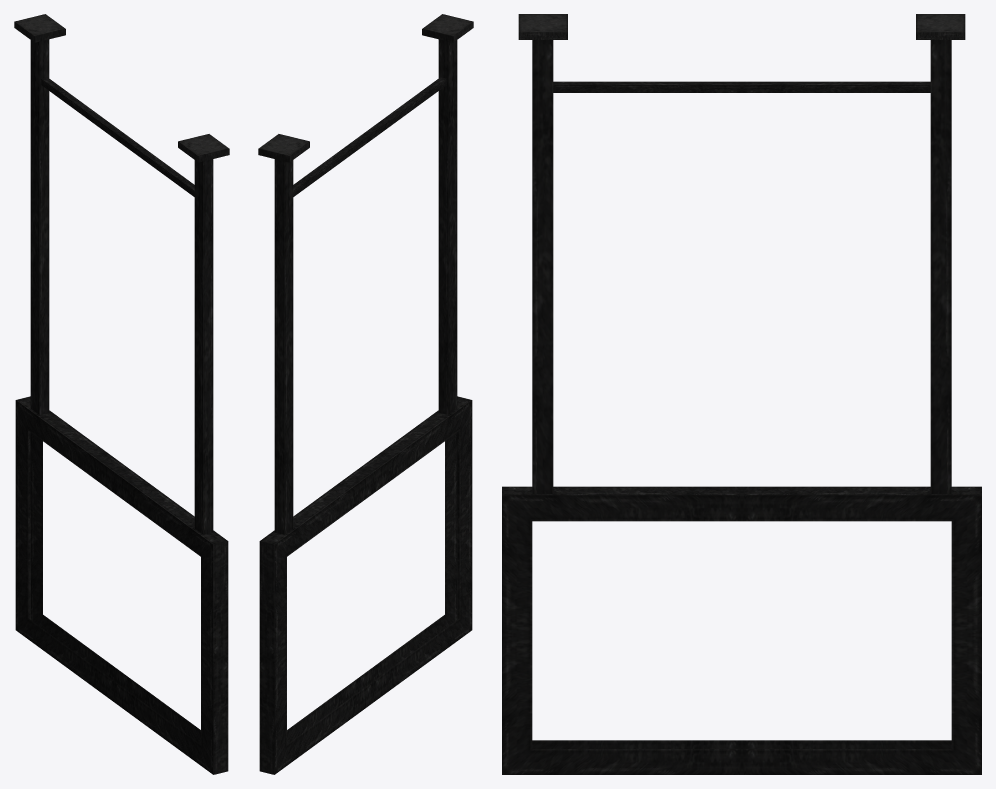
Rendered from p6_duct_rect_sml_hanger_white_lod0.glb.
3 renders of one model, left to right at view 1: azimuth 30°, elevation 25°; view 2: azimuth 150°, elevation 25°; view 3: azimuth 270°, elevation 25°, orthographic. The views are drawn at different scales.
Visible parts, largest first — view 1: surf0; view 2: surf0; view 3: surf0.
Boxes of the visible parts, x1,y1,x2,y2 form: surf0: [14, 14, 229, 774]; surf0: [258, 14, 473, 774]; surf0: [502, 14, 981, 774].
Bounding box in the file's own units: 2.08 × 39.36 × 22.91.
